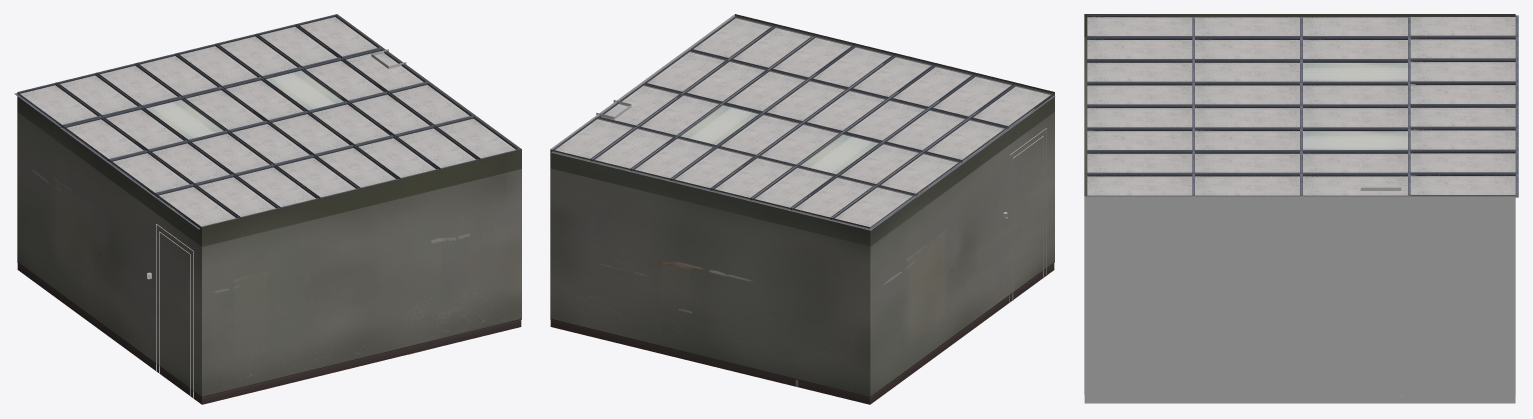
Rendered from SetupRoom.fbx.
The picture shows the model from 3 angles, left to right: view 1: azimuth 30°, elevation 25°; view 2: azimuth 150°, elevation 25°; view 3: azimuth 270°, elevation 25°; orthographic projection. The views are drawn at different scales.
Visible parts, largest first — view 1: Wall_W, tile (×30), Wall_N, tile1_OFF (×2), frame1 (×4), Door_Frame, Wall_S; view 2: Wall_E, tile (×30), Wall_N, tile1_OFF (×2), frame1 (×3), Door_Frame, Wall_W, Wall_S; view 3: Wall_S, tile (×30), frame1 (×27), tile1_OFF (×2), Wall_N, frame3 (×2), Floor_01.
Boxes of the visible parts, x1,y1,x2,y2 form: Wall_W: [202, 149, 521, 404]; tile (×30): [17, 17, 515, 226]; Wall_N: [17, 96, 201, 404]; tile1_OFF (×2): [143, 70, 343, 140]; frame1 (×4): [14, 83, 238, 229]; Door_Frame: [156, 224, 193, 398]; Wall_S: [337, 14, 521, 149]; Wall_E: [550, 149, 870, 404]; tile (×30): [552, 17, 1051, 229]; Wall_N: [870, 92, 1054, 404]; tile1_OFF (×2): [681, 105, 880, 174]; frame1 (×3): [831, 118, 1008, 230]; Door_Frame: [1009, 128, 1046, 302]; Wall_W: [735, 14, 1054, 92]; Wall_S: [550, 14, 734, 149]; Wall_S: [1084, 196, 1515, 403]; tile (×30): [1087, 16, 1515, 195]; frame1 (×27): [1087, 14, 1518, 197]; tile1_OFF (×2): [1303, 63, 1407, 149]; Wall_N: [1084, 14, 1515, 196]; frame3 (×2): [1303, 60, 1410, 152]; Floor_01: [1084, 395, 1515, 403].
Bounding box in the file's own units: 4.68 × 2.45 × 4.63.
